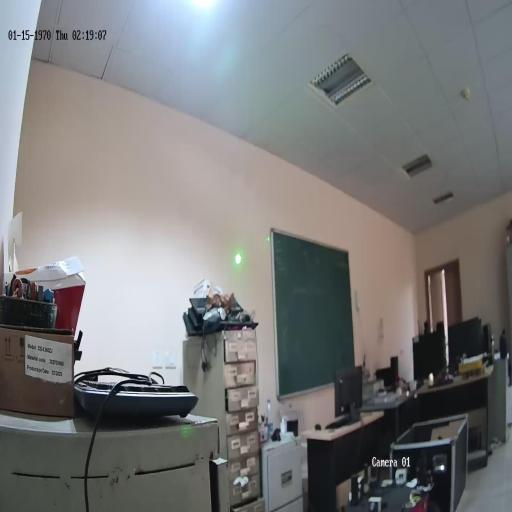laser: (234, 251, 242, 266)
